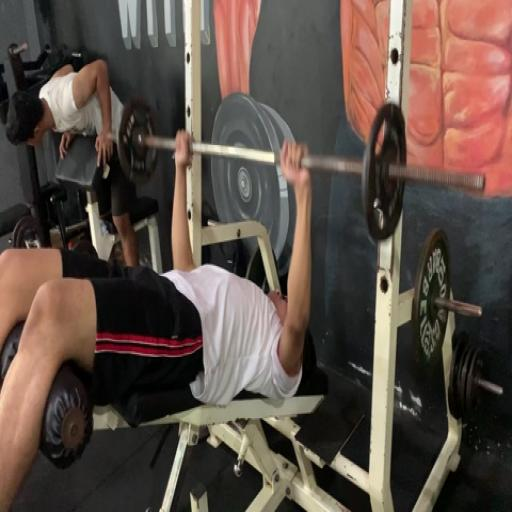exercise: (0, 128, 317, 511), (2, 41, 146, 270)
